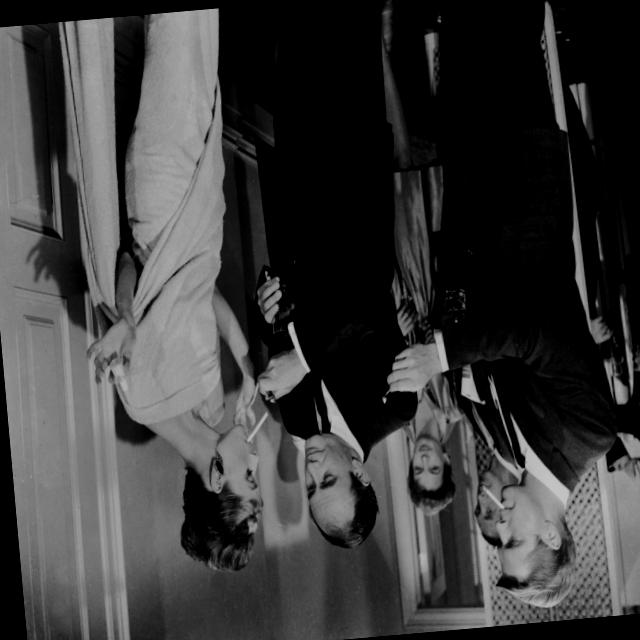cigarette: (240, 404, 273, 442)
